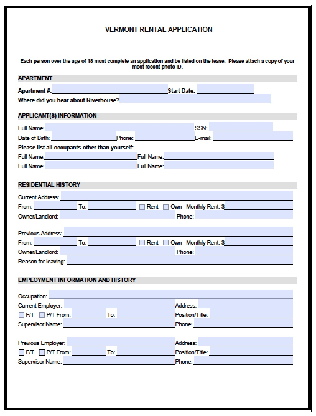checkbox: (17, 311, 26, 319), (17, 348, 26, 356), (162, 203, 170, 211), (162, 239, 170, 247), (37, 349, 46, 356), (138, 204, 146, 211), (139, 239, 146, 247), (38, 312, 46, 319)
textline: (64, 226, 295, 238), (47, 289, 296, 300), (60, 191, 295, 202), (65, 257, 295, 267), (45, 123, 196, 133), (52, 84, 168, 96), (119, 96, 273, 105), (63, 357, 176, 368), (163, 152, 275, 162), (163, 162, 275, 172), (194, 248, 295, 259), (59, 248, 177, 257), (192, 320, 295, 330), (63, 300, 176, 309), (63, 320, 176, 329), (194, 210, 294, 220), (197, 300, 295, 310), (198, 337, 295, 347), (45, 152, 137, 162), (45, 162, 138, 171), (212, 134, 294, 144), (66, 340, 175, 347), (50, 132, 118, 143), (192, 359, 295, 366), (209, 122, 274, 133), (224, 238, 295, 248), (196, 84, 255, 96), (209, 349, 294, 357), (134, 133, 195, 143), (115, 310, 176, 320), (115, 348, 176, 358), (209, 312, 294, 319), (32, 235, 77, 248), (224, 203, 295, 211), (87, 201, 137, 211), (87, 238, 137, 248), (33, 201, 78, 211), (71, 310, 108, 320), (70, 349, 107, 357)
